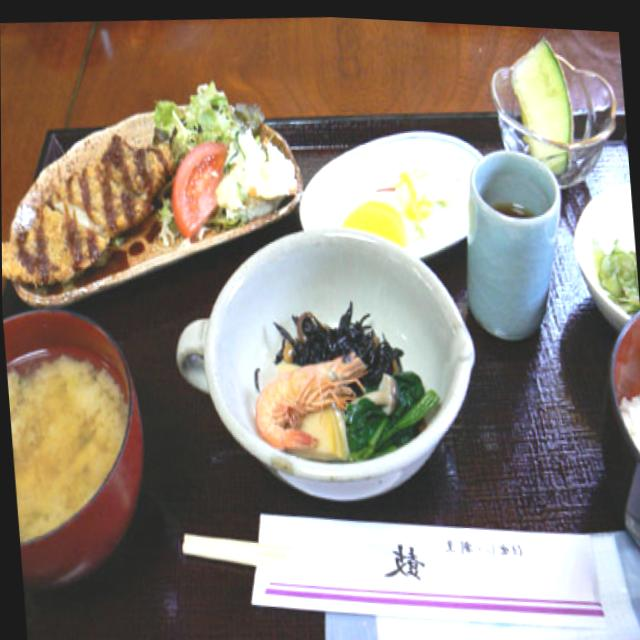炸货点心: (0, 69, 294, 293)
熟制海鲜: (0, 69, 294, 293)
